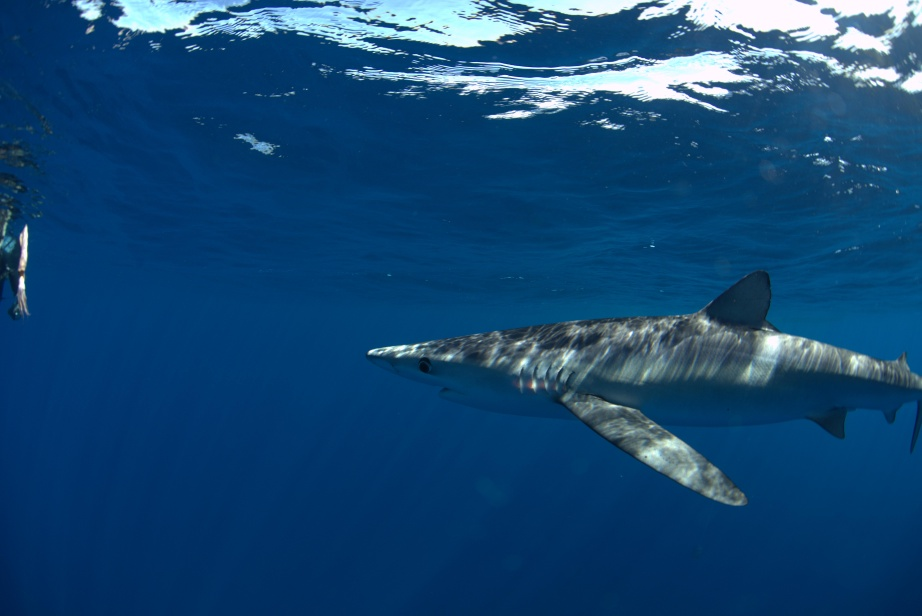Azul: (357, 241, 922, 500)
